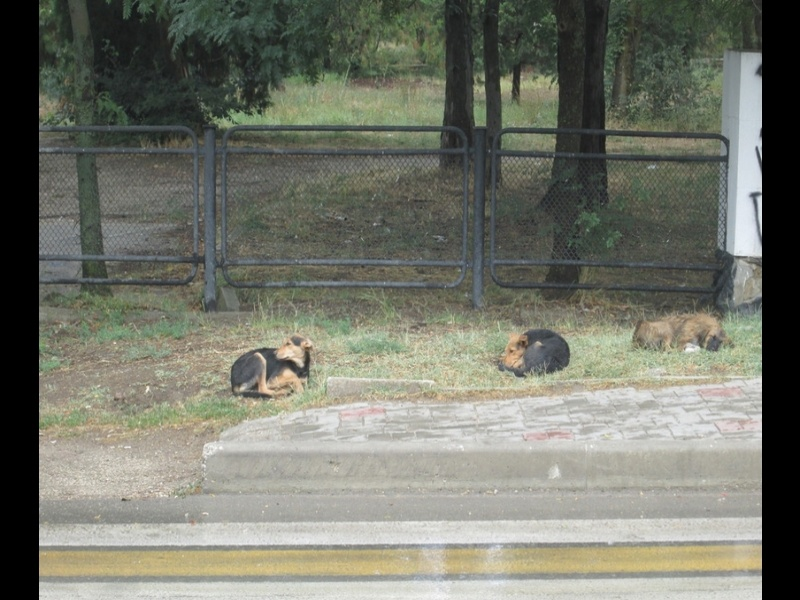dog: (228, 331, 318, 406), (629, 310, 740, 359), (498, 327, 573, 386)
